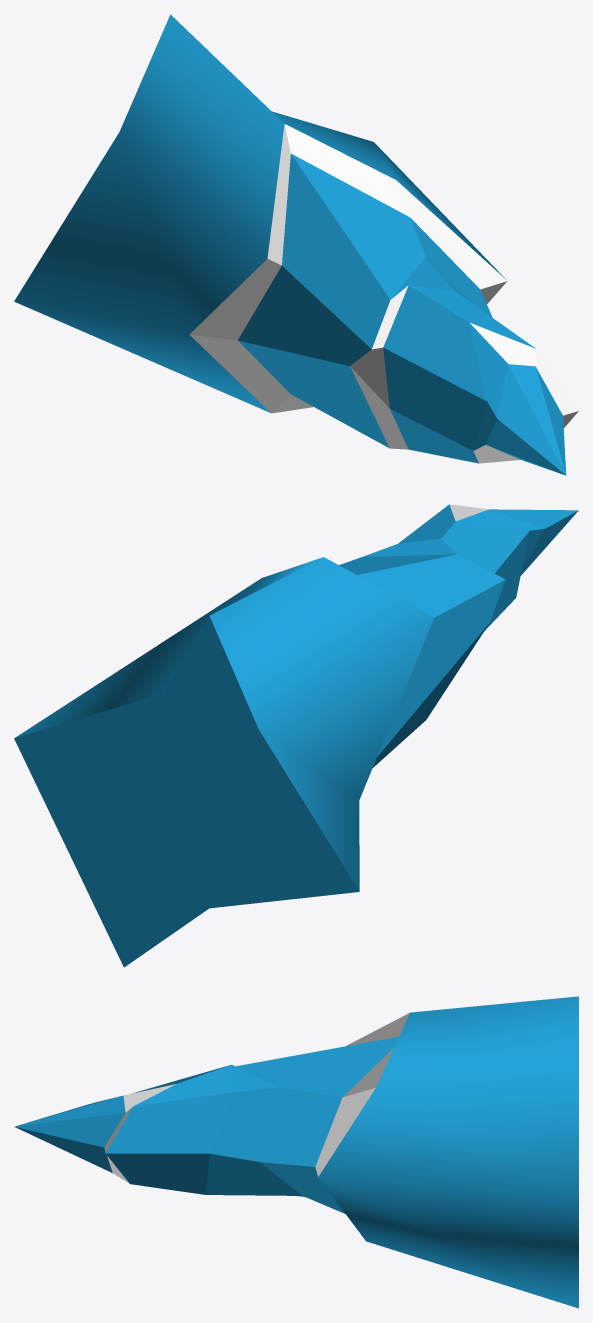
3 views of the same model, one above another, from view 1: azimuth 30°, elevation 25°; view 2: azimuth 150°, elevation 25°; view 3: azimuth 270°, elevation 25° (orthographic). The views are drawn at different scales.
Visible parts, largest first — view 1: forest11_2; view 2: forest11_2; view 3: forest11_2.
Boxes of the visible parts, x1,y1,x2,y2 form: forest11_2: (14,14,578,475); forest11_2: (14,504,578,967); forest11_2: (14,996,578,1308).
Bounding box in the file's own units: 402 × 755 × 414.
